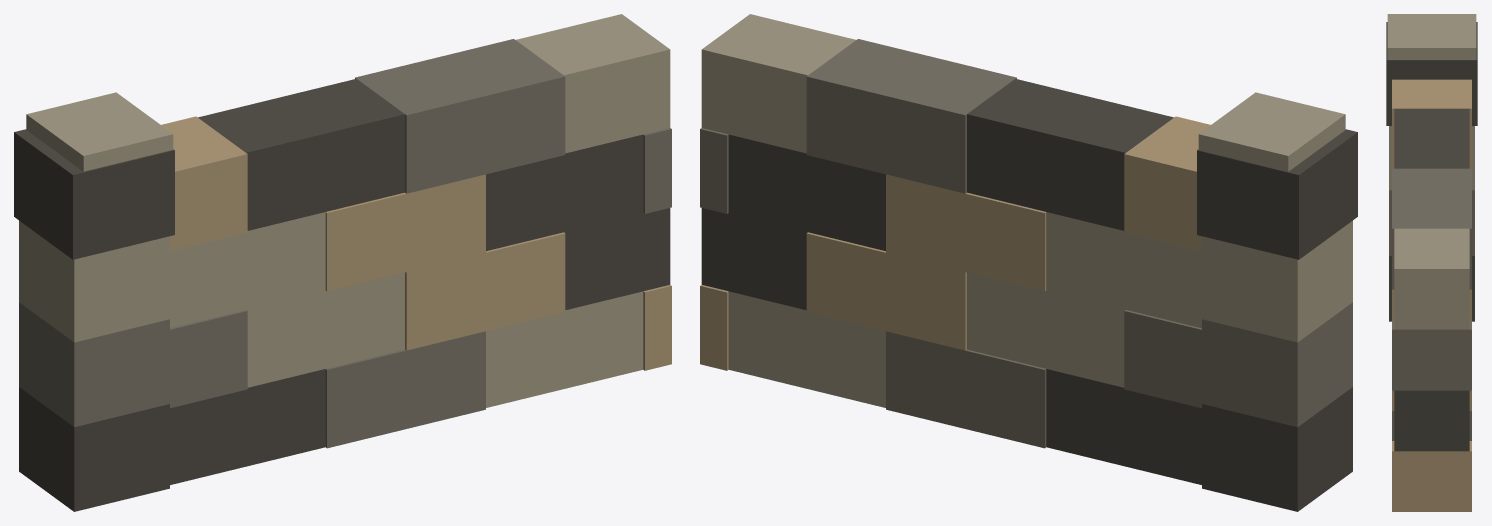
Rendered from TW_STONE_WALL_2M_B_LOD0.glb.
3 renders of one model, left to right at view 1: azimuth 30°, elevation 25°; view 2: azimuth 150°, elevation 25°; view 3: azimuth 270°, elevation 25°, orthographic. The views are drawn at different scales.
Visible parts, largest first — view 1: TW_STONE_WALL_2M_B_LOD0; view 2: TW_STONE_WALL_2M_B_LOD0; view 3: TW_STONE_WALL_2M_B_LOD0.
Part boxes in pixels (x1,y1,x2,y2): TW_STONE_WALL_2M_B_LOD0: [14, 14, 671, 511]; TW_STONE_WALL_2M_B_LOD0: [700, 14, 1357, 511]; TW_STONE_WALL_2M_B_LOD0: [1386, 14, 1477, 511].
Size of the model in its own units: 2.01 by 1.13 by 0.34.
1 material, 1 textured.
